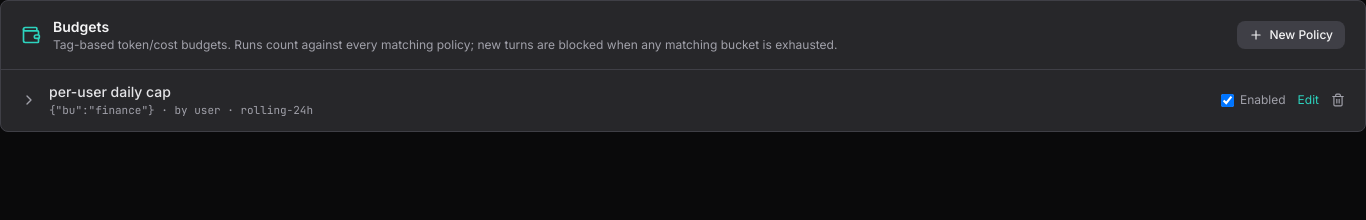
Test: BudgetsSection › preserves meaningful precision for sub-dollar cost meters
Click the button named "Toggle spend for per-user daily cap": (29,100) [21,92,37,108]
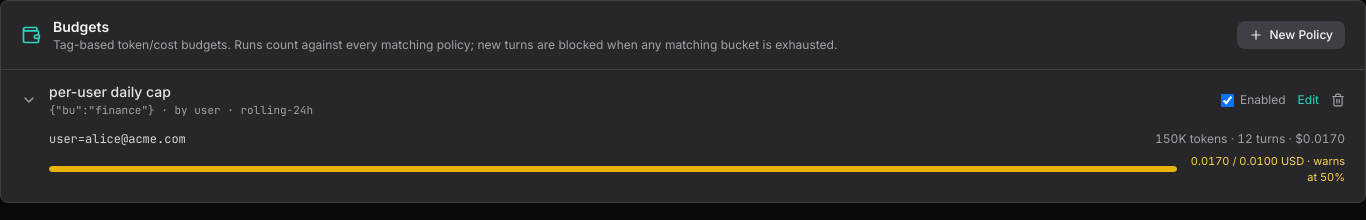
Result: the text "0.0170 / 0.0100 USD" is shown at [1185,152,1345,186]
